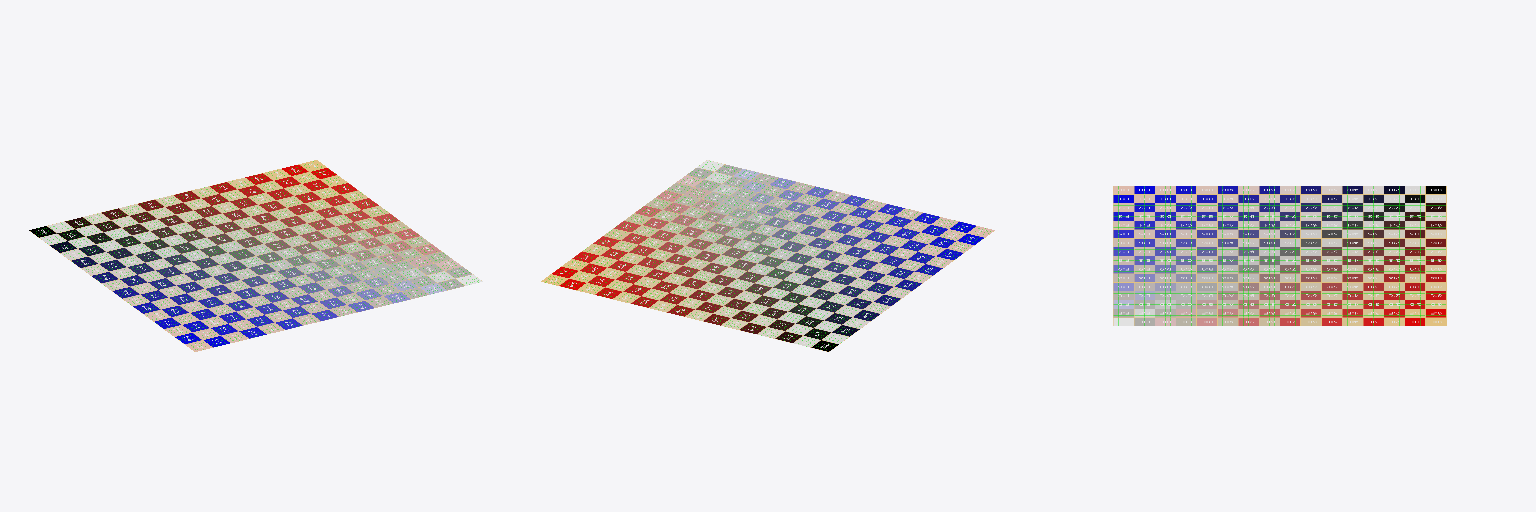
3 renders of one model, left to right at view 1: azimuth 30°, elevation 25°; view 2: azimuth 150°, elevation 25°; view 3: azimuth 270°, elevation 25°, orthographic.
Visible parts, largest first — view 1: floor; view 2: floor; view 3: floor.
Part boxes in pixels (bbox=[...]): floor: bbox=[29, 160, 482, 351]; floor: bbox=[541, 160, 994, 351]; floor: bbox=[1113, 186, 1446, 325].
Size of the model in its own units: 64 by 0 by 64.
Materials: 1 (1 with a texture image).